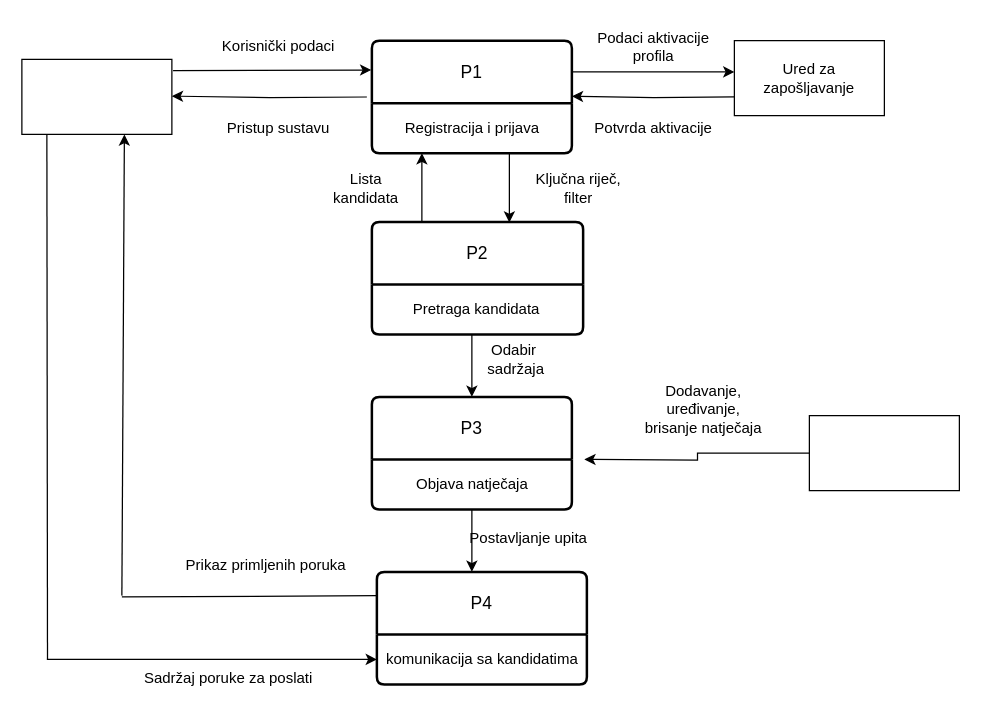
The diagram is 981 pixels wide and 718 high, and some of its shapes have lost their labels. The centre of each missing label's shape, as x and y in pixels:
Administrator: (883,452)
Korisnik: (96,96)
